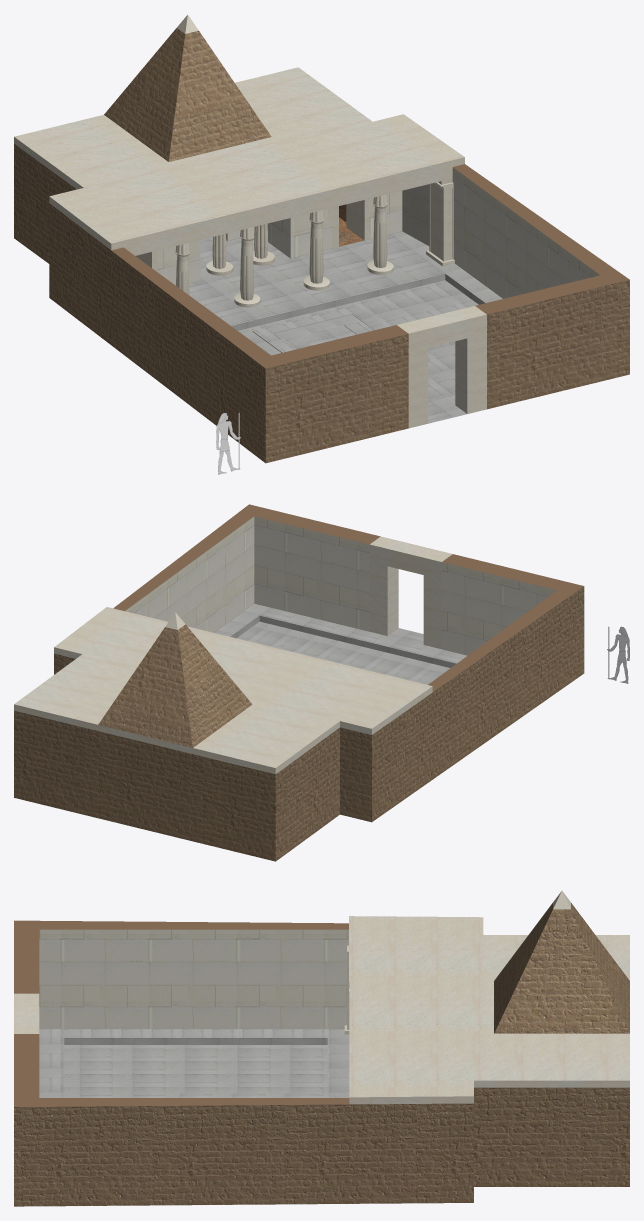
The model's file is Amenemone_18.obj.
3 views of the same model, one above another, from view 1: azimuth 30°, elevation 25°; view 2: azimuth 150°, elevation 25°; view 3: azimuth 270°, elevation 25° (orthographic). The views are drawn at different scales.
Parts seen in each view (by area): view 1: Mesh15 Model, Mesh13 Component_13_4 Model, Mesh7 Component_13_3 Model, Mesh5 Component_13_2 Model, Mesh17 Model; view 2: Mesh15 Model, Mesh17 Model; view 3: Mesh15 Model.
Part boxes in pixels (bbox=[...]): Mesh15 Model: bbox=[14, 14, 629, 463]; Mesh13 Component_13_4 Model: bbox=[309, 210, 323, 283]; Mesh7 Component_13_3 Model: bbox=[373, 194, 387, 267]; Mesh5 Component_13_2 Model: bbox=[240, 227, 254, 300]; Mesh17 Model: bbox=[216, 412, 240, 474]; Mesh15 Model: bbox=[14, 504, 584, 861]; Mesh17 Model: bbox=[607, 626, 629, 683]; Mesh15 Model: bbox=[14, 891, 629, 1206].
Size of the model in its own units: 11.43 by 5.8 by 14.04.
